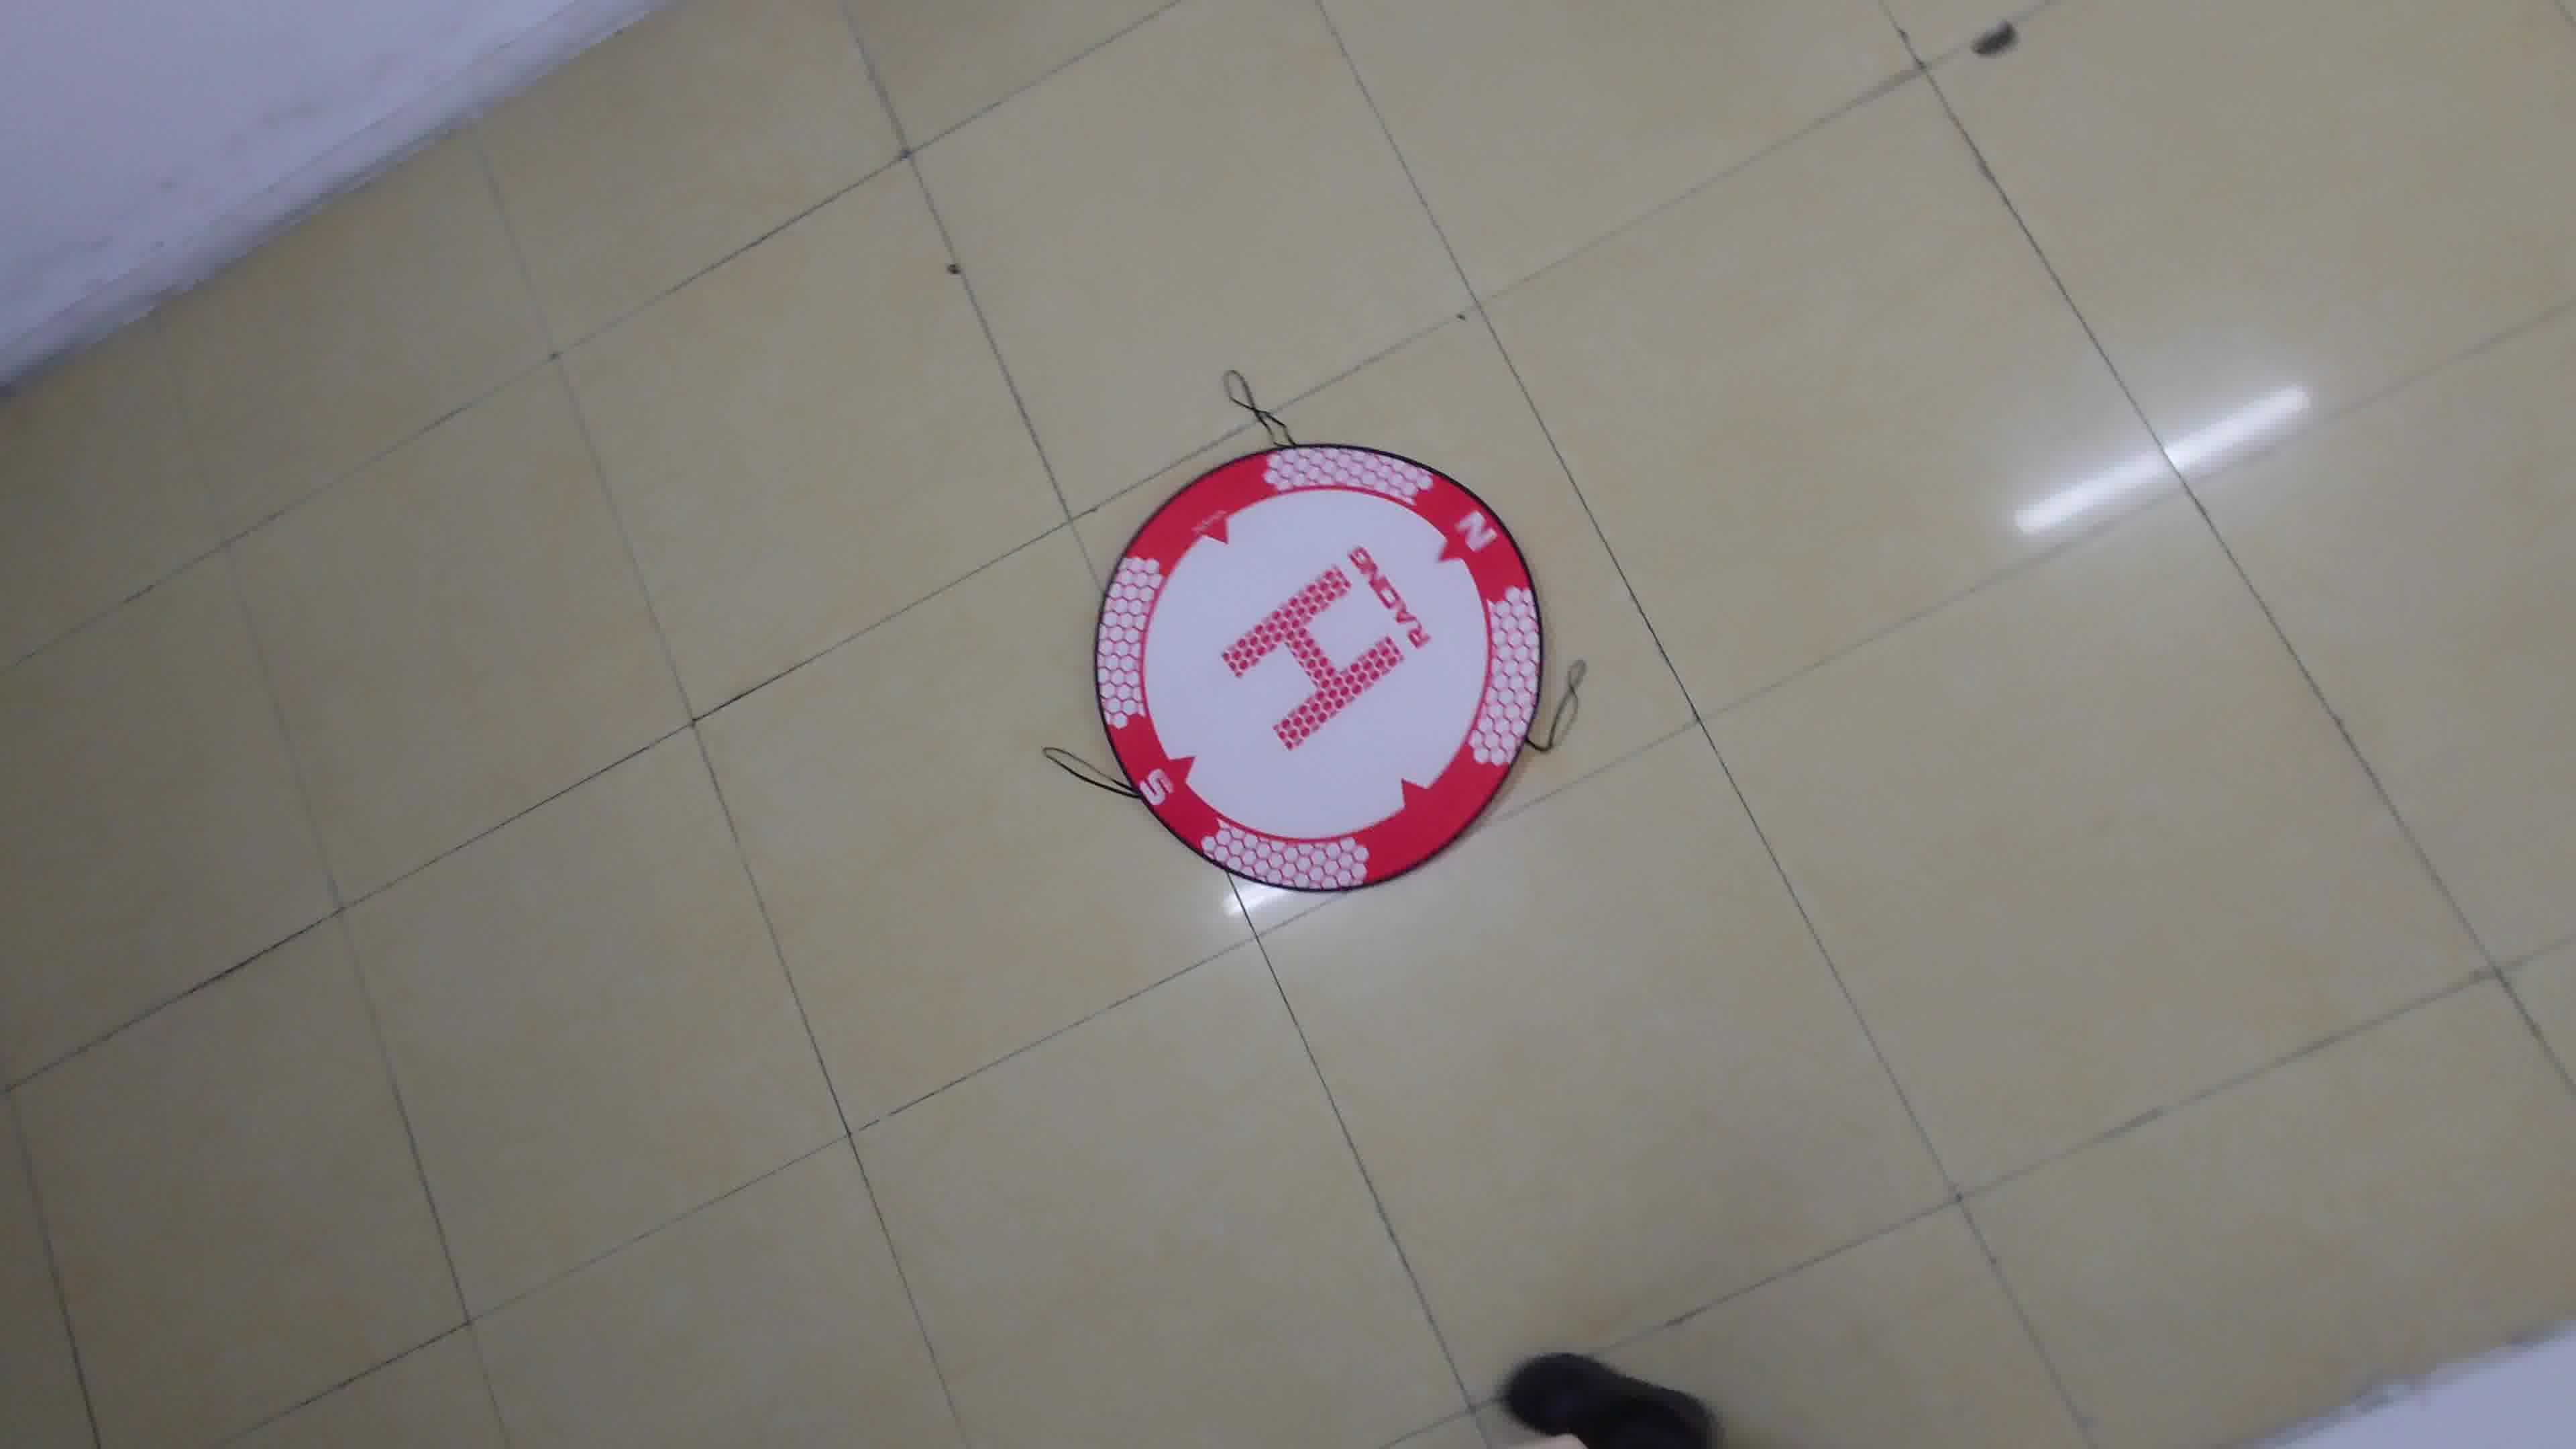H: (1221, 564, 1407, 752)
